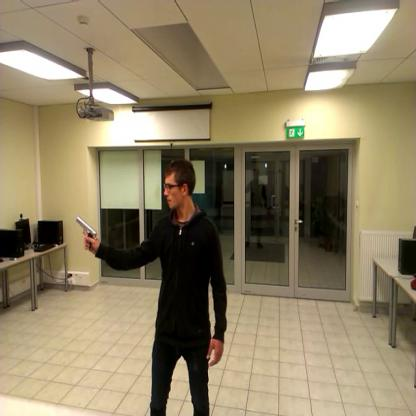Pistol: (74, 208, 104, 258)
